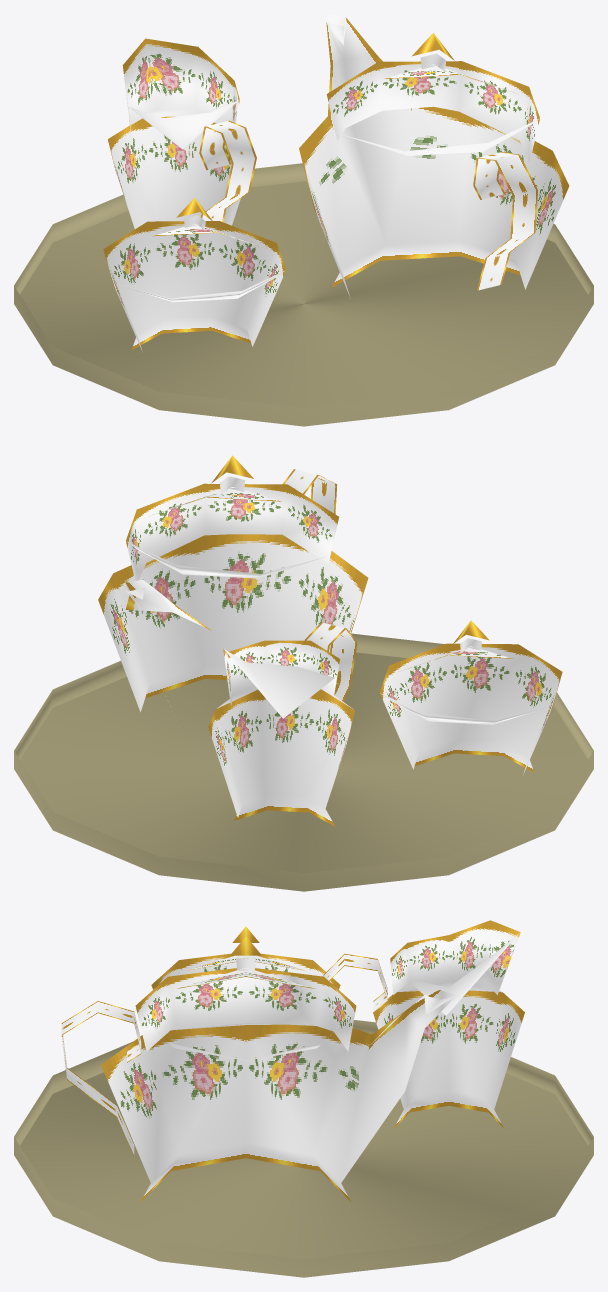
Rendered from ps2_save-icons_myhomeotsukuro.glb.
The picture shows the model from 3 angles, top to bottom: view 1: azimuth 30°, elevation 25°; view 2: azimuth 150°, elevation 25°; view 3: azimuth 270°, elevation 25°; orthographic projection.
Visible parts, largest first — view 1: ICON.ICO; view 2: ICON.ICO; view 3: ICON.ICO.
Boxes of the visible parts, bbox=[...] form: ICON.ICO: bbox=[14, 14, 593, 426]; ICON.ICO: bbox=[14, 455, 593, 891]; ICON.ICO: bbox=[14, 920, 593, 1277].
Size of the model in its own units: 4.5 by 2.29 by 4.5.
Materials: 1 (1 with a texture image).
